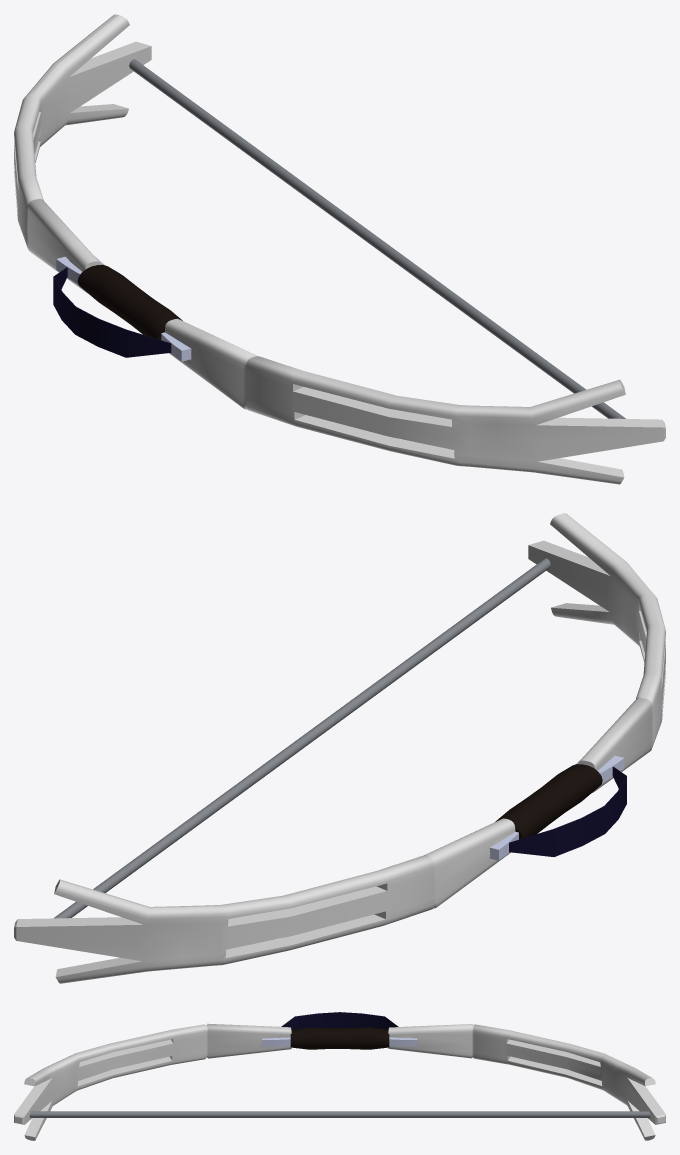
File: Arrow #1.fbx
3 views of the same model, one above another, from view 1: azimuth 30°, elevation 25°; view 2: azimuth 150°, elevation 25°; view 3: azimuth 270°, elevation 25° (orthographic). The views are drawn at different scales.
Visible parts, largest first — view 1: Plane002, Plane001, Cylinder002, Cylinder001, Plane003; view 2: Plane001, Plane002, Cylinder002, Cylinder001, Plane003; view 3: Plane002, Plane001, Cylinder002, Cylinder001, Plane003, Box001, Box002.
Boxes of the visible parts, box(x1,y1,x2,y2) form: Plane002: box(165, 318, 665, 484); Plane001: box(14, 14, 151, 292); Cylinder002: box(129, 59, 625, 418); Cylinder001: box(77, 264, 182, 339); Plane003: box(53, 267, 171, 357); Plane001: box(14, 818, 515, 983); Plane002: box(528, 513, 665, 792); Cylinder002: box(54, 558, 550, 918); Cylinder001: box(495, 764, 602, 839); Plane003: box(509, 766, 626, 856); Plane002: box(14, 1023, 291, 1140); Plane001: box(388, 1024, 665, 1140); Cylinder002: box(29, 1111, 650, 1117); Cylinder001: box(290, 1027, 389, 1049); Plane003: box(281, 1012, 398, 1029); Box001: box(389, 1037, 417, 1046); Box002: box(262, 1037, 290, 1046).
Size of the model in its own units: 72.32 by 21.06 by 199.
